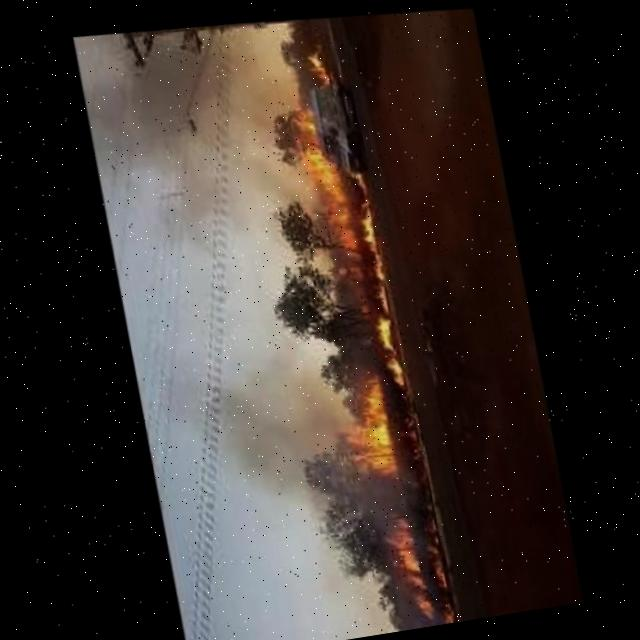fire: (335, 158, 457, 630), (285, 101, 360, 299), (330, 365, 394, 479), (363, 508, 421, 617), (305, 38, 333, 77)
